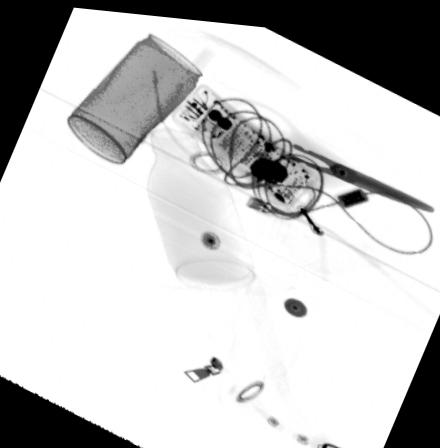Scissors: (207, 91, 434, 204)
